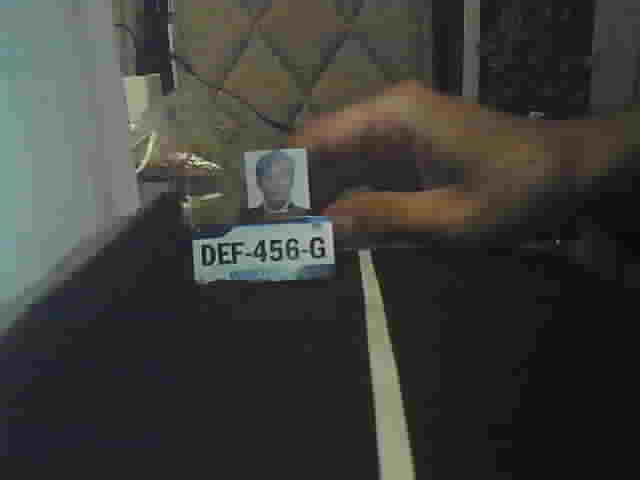PLACA: (189, 215, 339, 288)
ROSTRO: (244, 149, 313, 210)
